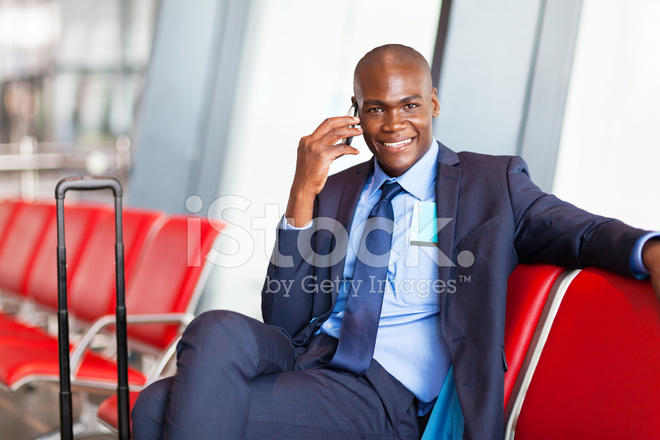phone: (331, 98, 363, 166)
talk: (298, 92, 427, 188)
